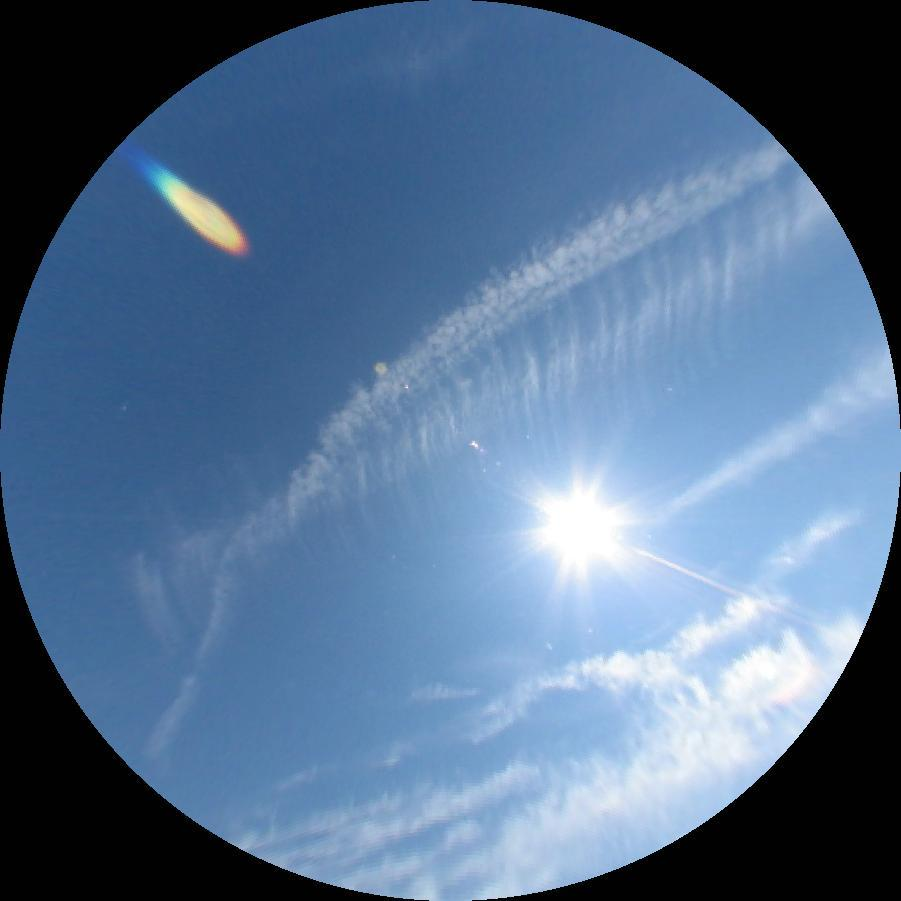contrail veryold: (52, 55, 794, 769), (110, 160, 875, 701)
parasite: (628, 544, 824, 633)
sun: (552, 504, 611, 554)
